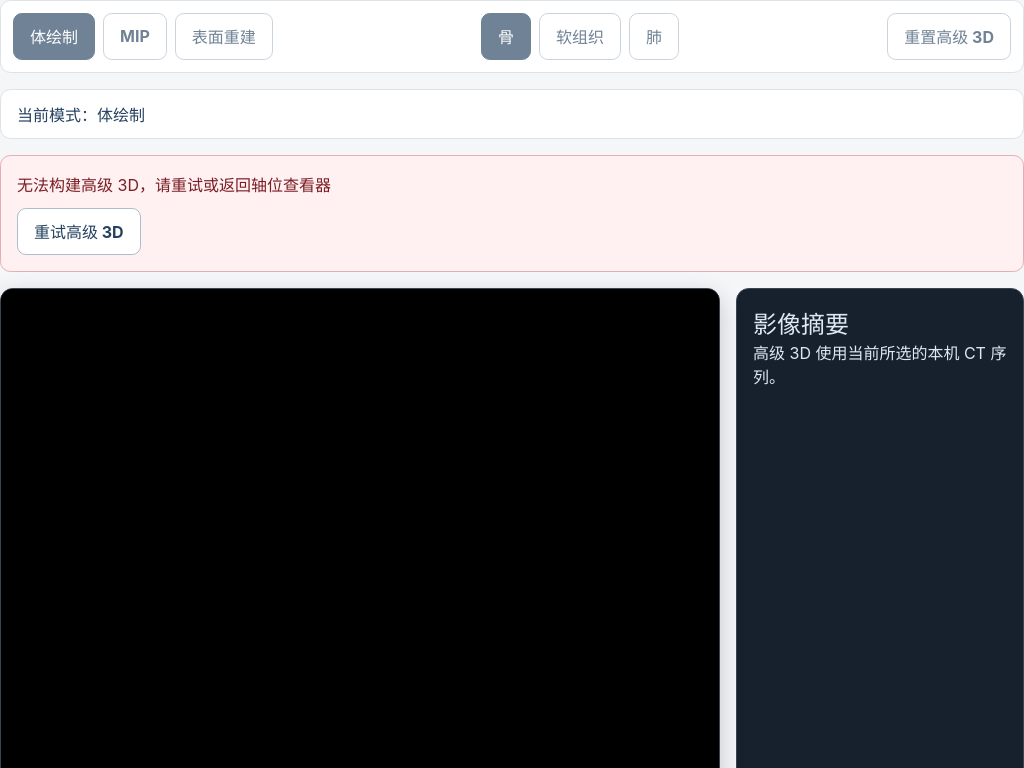
Scenario: keeps approved runtime errors, hides unknown details, and retries with cleanup
Check: the message shows "无法构建高级 3D，请重试或返回轴位查看器", box [17, 175, 331, 195]
Click the button "重试高级 3D" at (79, 231), box [17, 208, 141, 255]
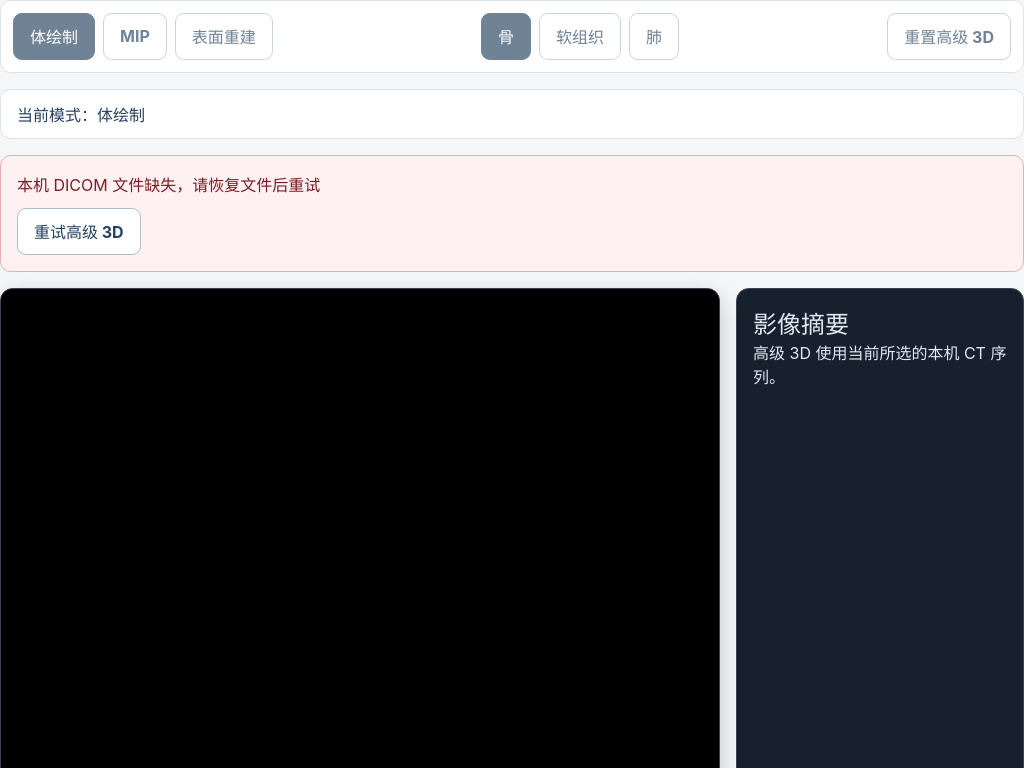
Check: the message shows "本机 DICOM 文件缺失，请恢复文件后重试", box [17, 175, 320, 195]
